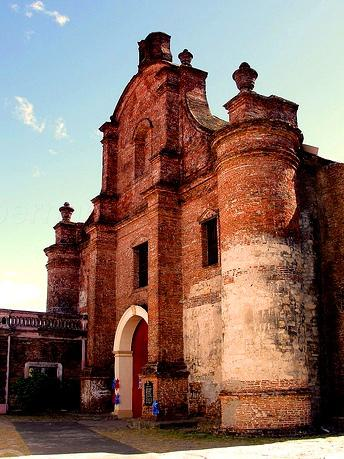Sta. Maria Church: (50, 26, 313, 427)
Unfinished Paint: (185, 231, 315, 388)
